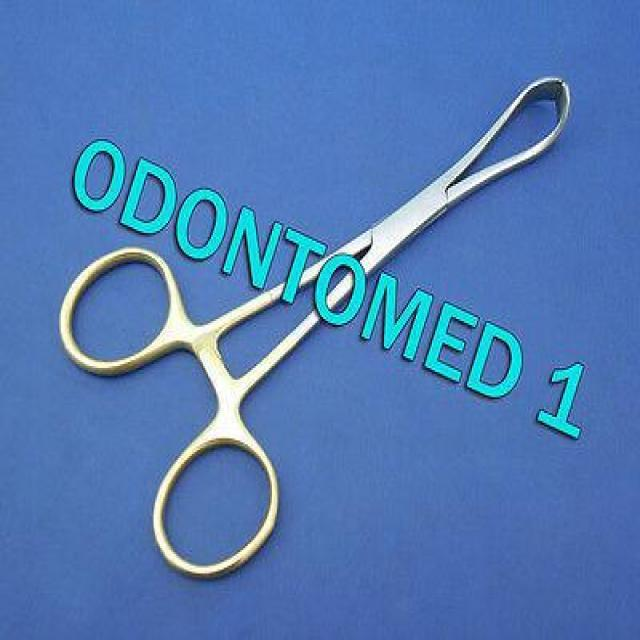Towel_clip: (54, 67, 576, 588)
